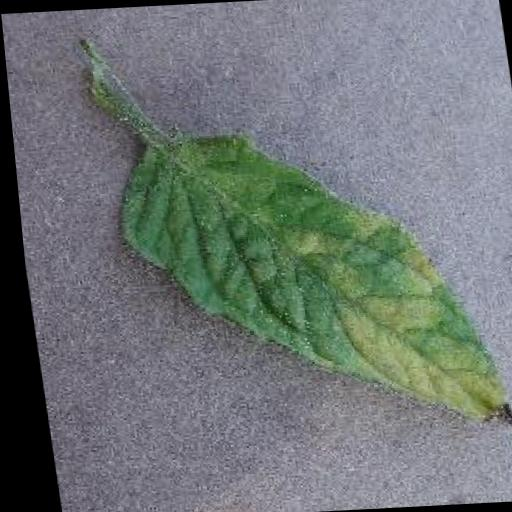Leaf Mold: (104, 126, 512, 450)
